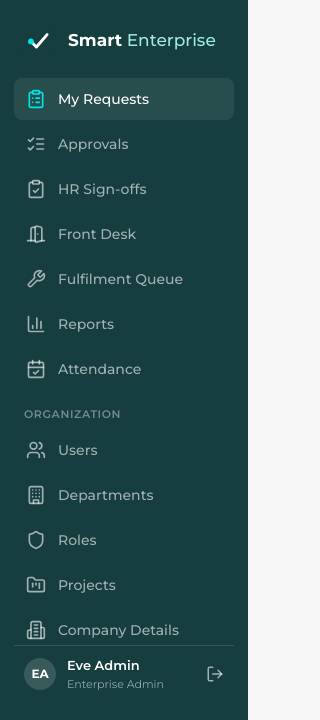
logging out clears the session and reverts the user footer to signed-out state
Expected: the text "Eve Admin" is shown, x1=67 y1=657 x2=140 y2=673
Click the button named "Log out": x=215, y=674 x1=206 y1=665 x2=224 y2=683
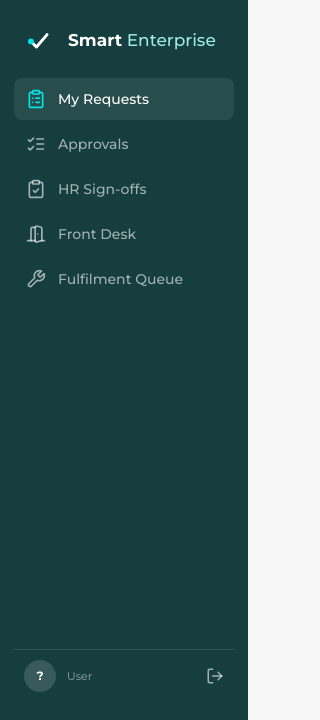
Expected: the text "Eve Admin" is gone
